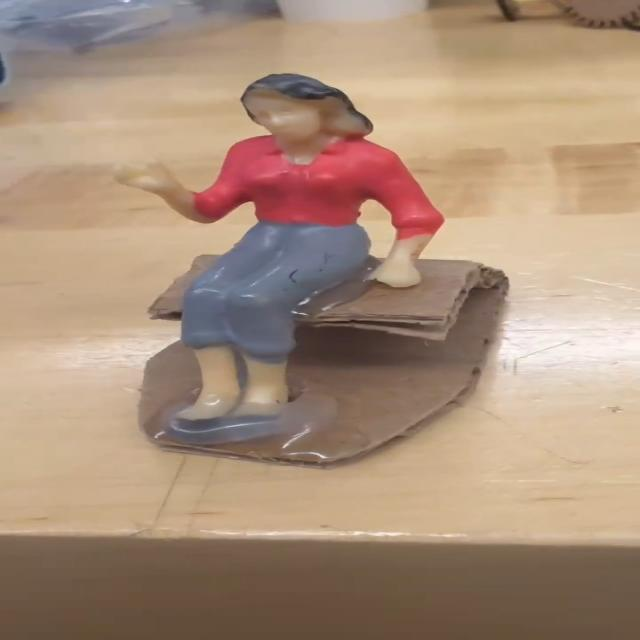Authorized: (98, 71, 460, 454)
